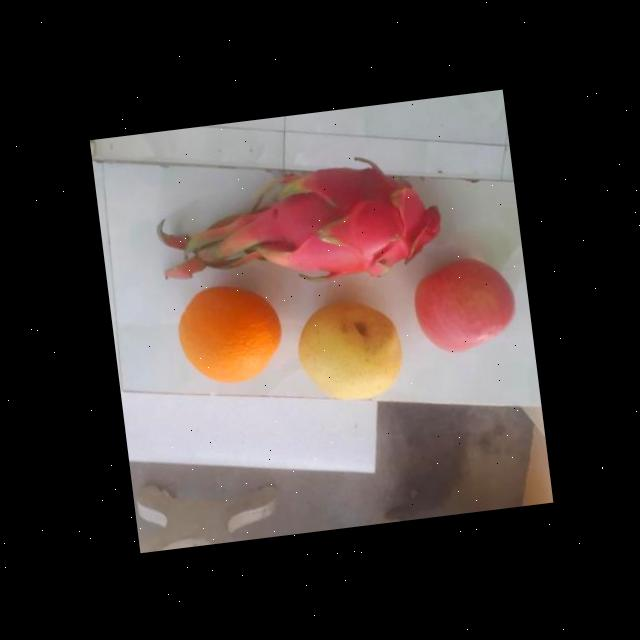apple: (409, 255, 522, 356)
orange: (170, 280, 290, 389)
pear: (288, 296, 411, 409)
pitaya: (256, 154, 443, 296)
